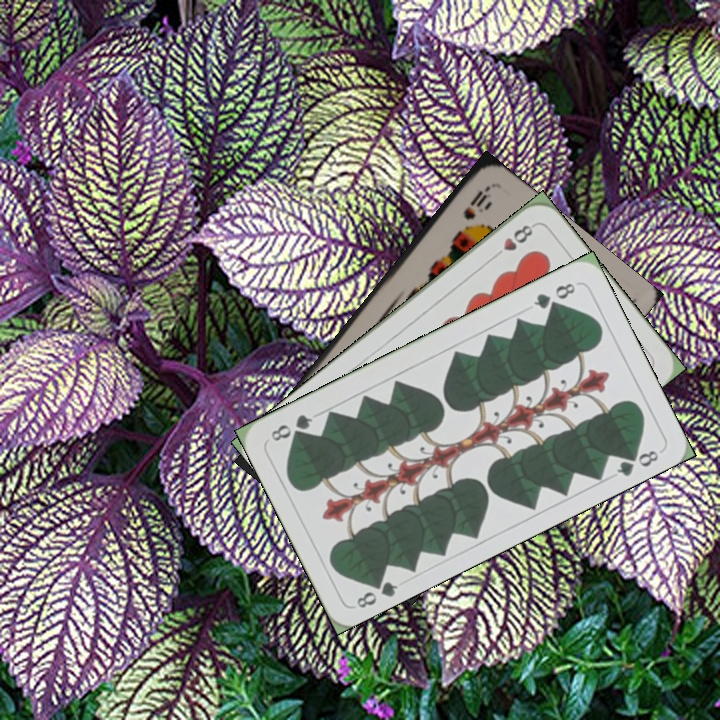G8: (352, 572, 401, 611), (529, 278, 578, 312)
H8: (488, 220, 537, 263)
S10: (459, 183, 492, 223)
